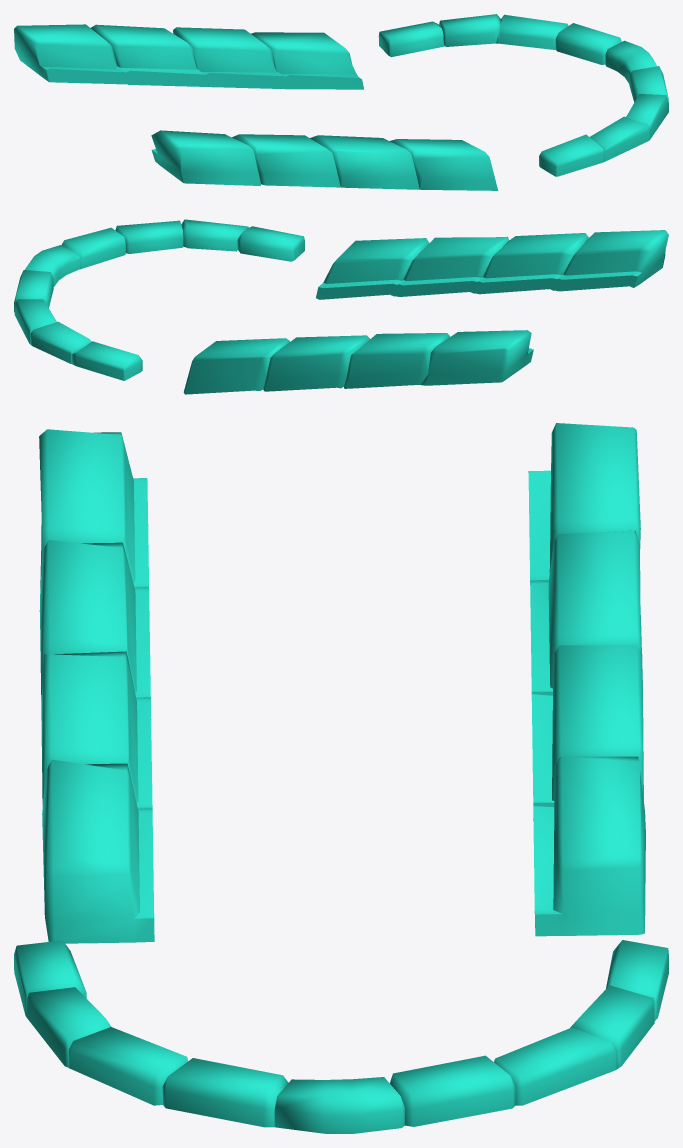
File: Stone_Low.fbx
3 renders of one model, top to bottom at view 1: azimuth 30°, elevation 25°; view 2: azimuth 150°, elevation 25°; view 3: azimuth 270°, elevation 25°, orthographic. The views are drawn at different scales.
Visible parts, largest first — view 1: Stone_Stairs, Stone_Start; view 2: Stone_Stairs, Stone_Start; view 3: Stone_Stairs, Stone_Start.
Boxes of the visible parts, x1,y1,x2,y2 form: Stone_Stairs: (14, 24, 498, 190); Stone_Start: (378, 14, 668, 176); Stone_Stairs: (183, 230, 668, 394); Stone_Start: (14, 219, 304, 380); Stone_Stairs: (39, 423, 645, 943); Stone_Start: (14, 940, 668, 1133).
Size of the model in its own units: 1451 by 319 by 807.
